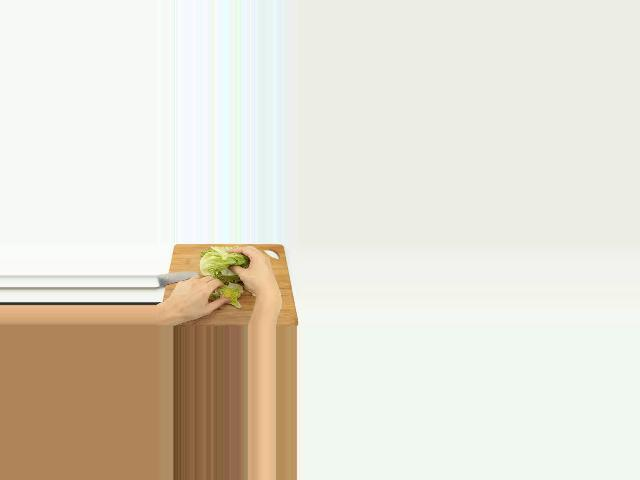lettuce: (198, 247, 246, 280)
